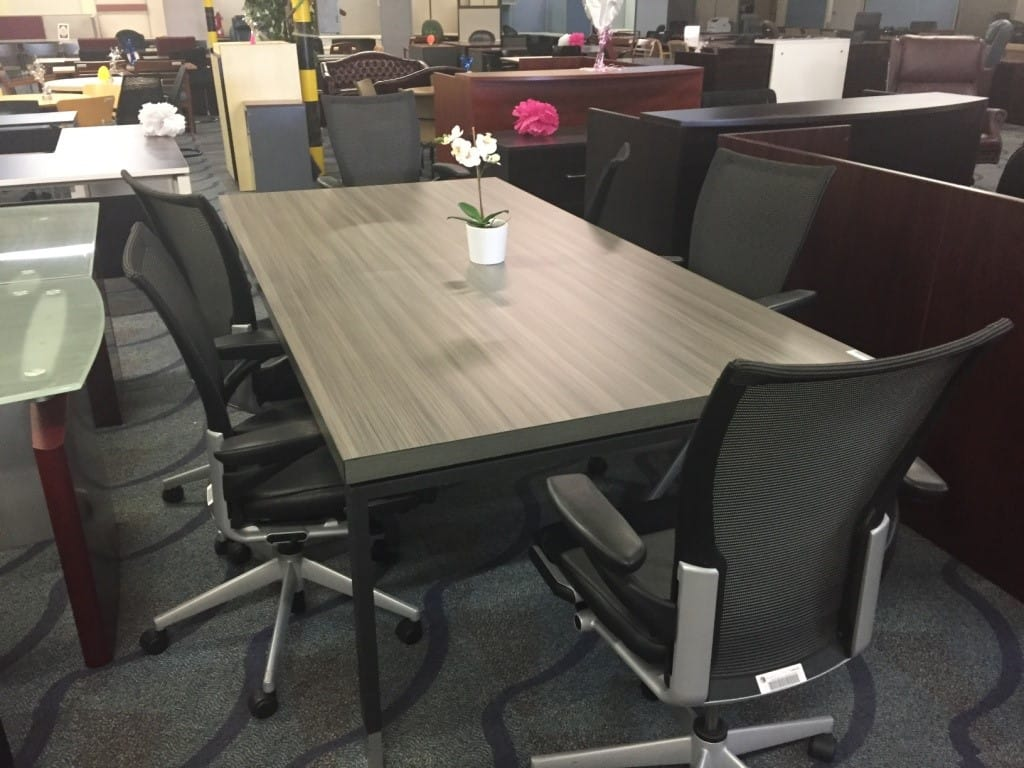conference_table: (217, 175, 908, 768), (1, 201, 124, 673), (1, 123, 193, 204), (2, 91, 110, 109)
